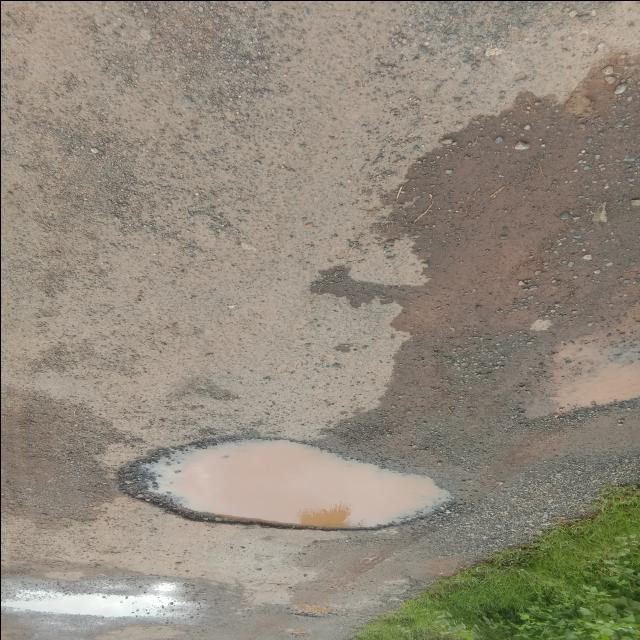potholes: (112, 437, 466, 533), (0, 586, 201, 625), (276, 597, 344, 619)
